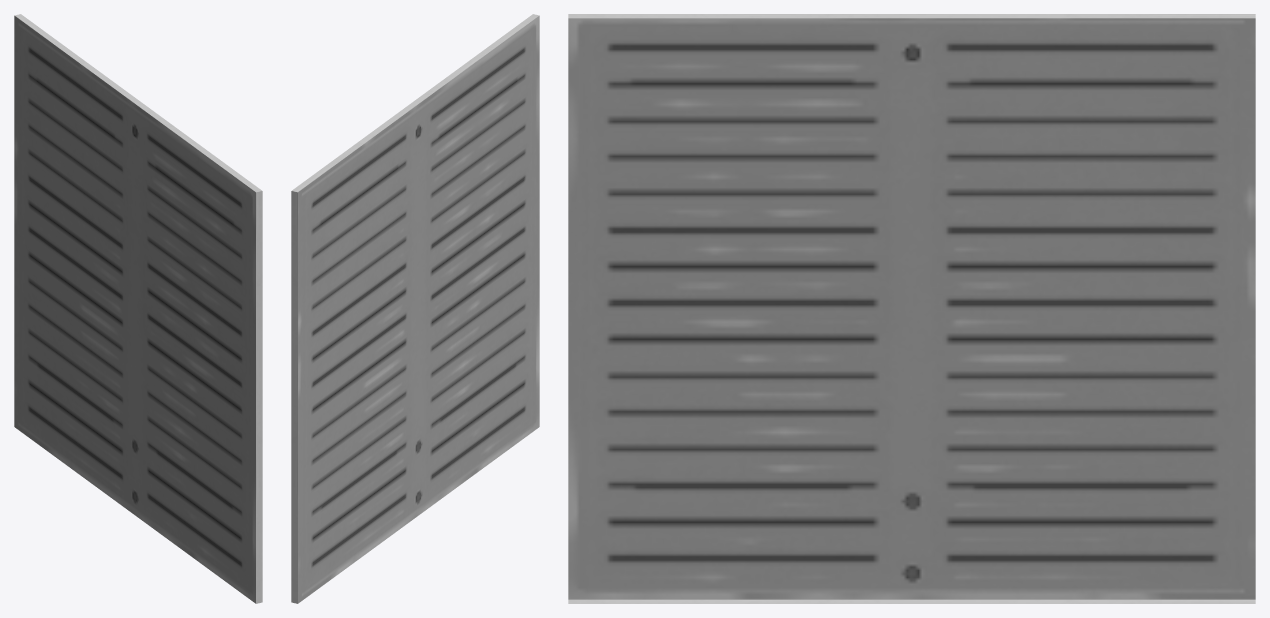
File: HH_Ventilation_Grid_02.fbx
3 renders of one model, left to right at view 1: azimuth 30°, elevation 25°; view 2: azimuth 150°, elevation 25°; view 3: azimuth 270°, elevation 25°, orthographic. The views are drawn at different scales.
Parts seen in each view (by area): view 1: HH_Ventilation_Grid_02; view 2: HH_Ventilation_Grid_02; view 3: HH_Ventilation_Grid_02.
Part boxes in pixels (x1,y1,x2,y2): HH_Ventilation_Grid_02: (14, 14, 262, 603); HH_Ventilation_Grid_02: (291, 14, 539, 603); HH_Ventilation_Grid_02: (568, 14, 1255, 603).
Bounding box in the file's own units: 0.7533 × 46.35 × 49.32.
